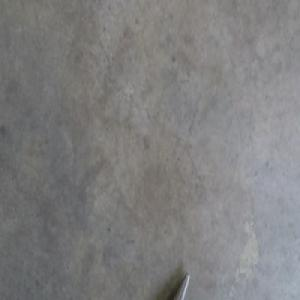Pliers: (175, 273, 189, 299)
